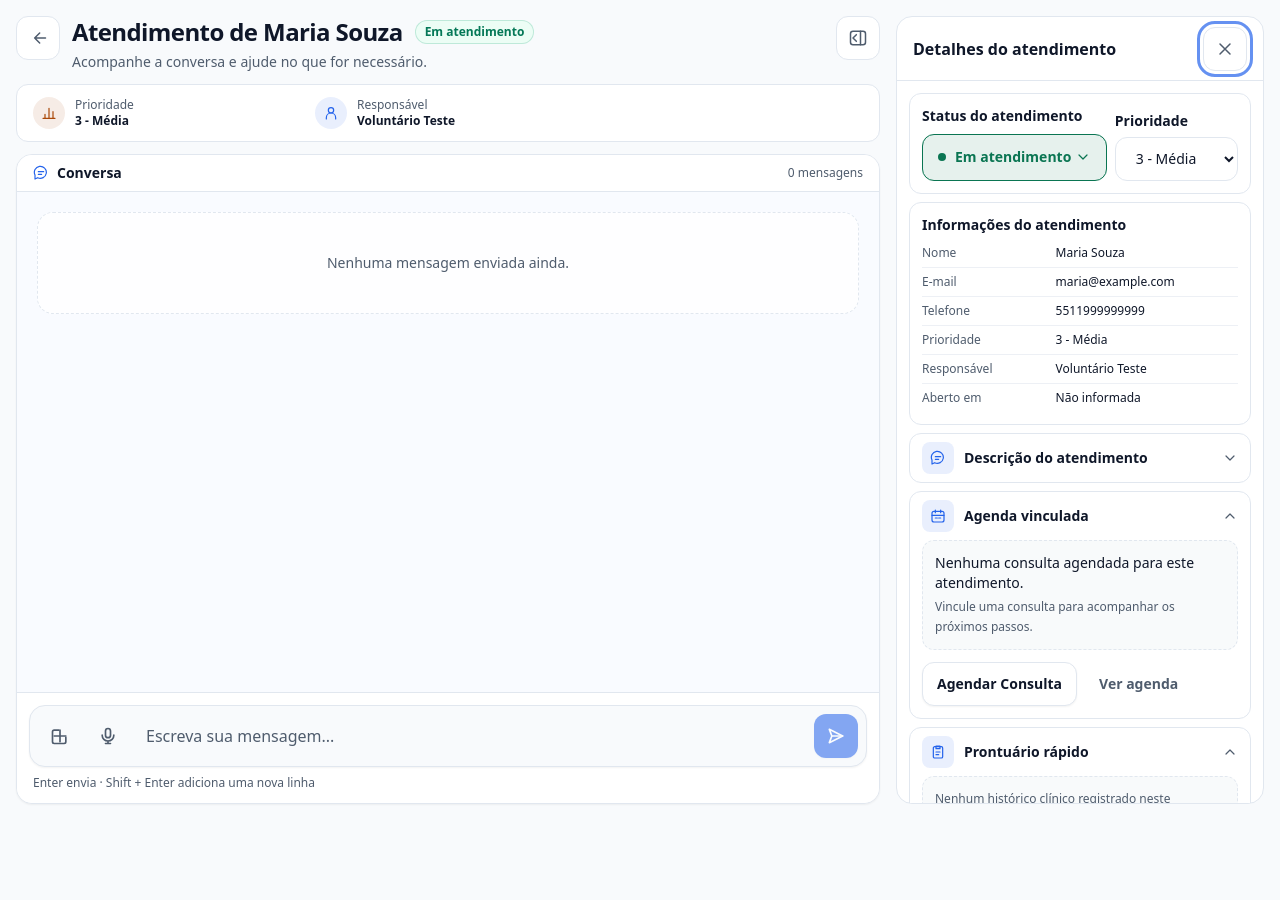
Test case: DetalheAtendimento - Deduplicação de Mensagens › permite agendar consulta vinculada diretamente pelo atendimento com validação de campos
Expected: the heading "Agenda vinculada" is shown, x1=964 y1=506 x2=1089 y2=525
Expected: the text "Nenhuma consulta agendada para este atendimento." is shown, x1=935 y1=553 x2=1225 y2=593
Click the button "Agendar Consulta": [1000, 684] box x1=922 y1=662 x2=1077 y2=706
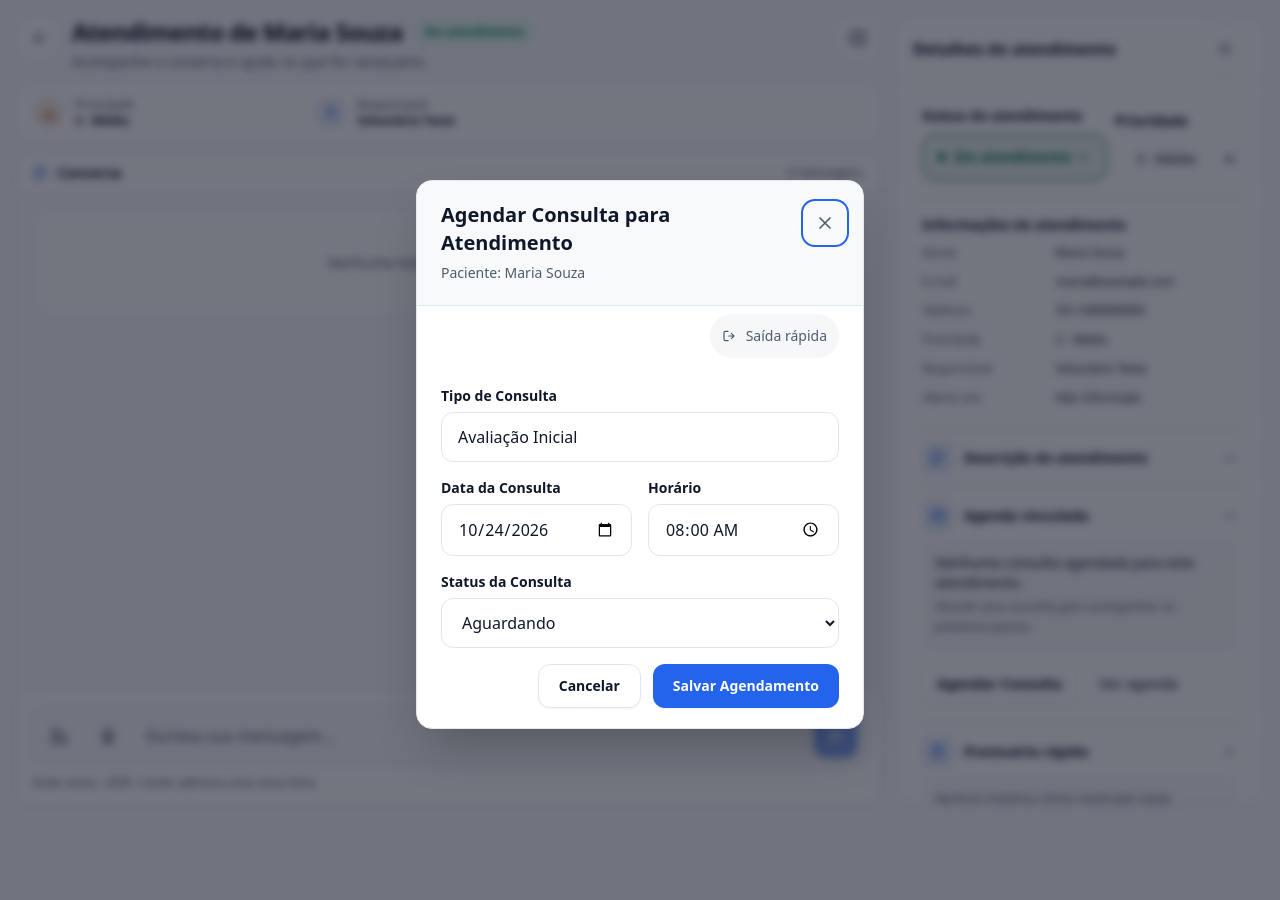
Clear the field with placeholder "Ex: Avaliação Inicial": [640, 436] box x1=441 y1=412 x2=839 y2=462
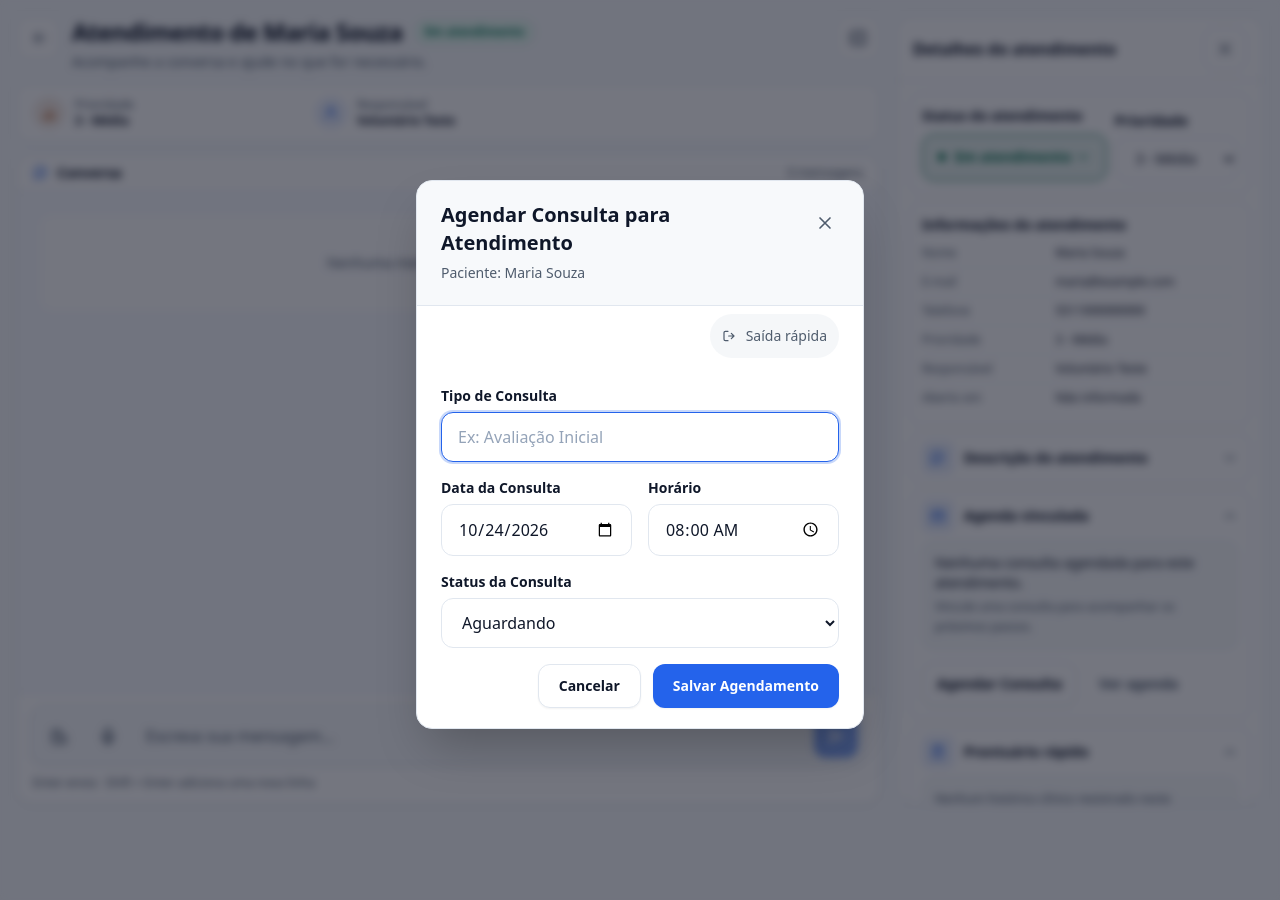
Click the button "Salvar Agendamento": [746, 686] box x1=653 y1=664 x2=839 y2=708
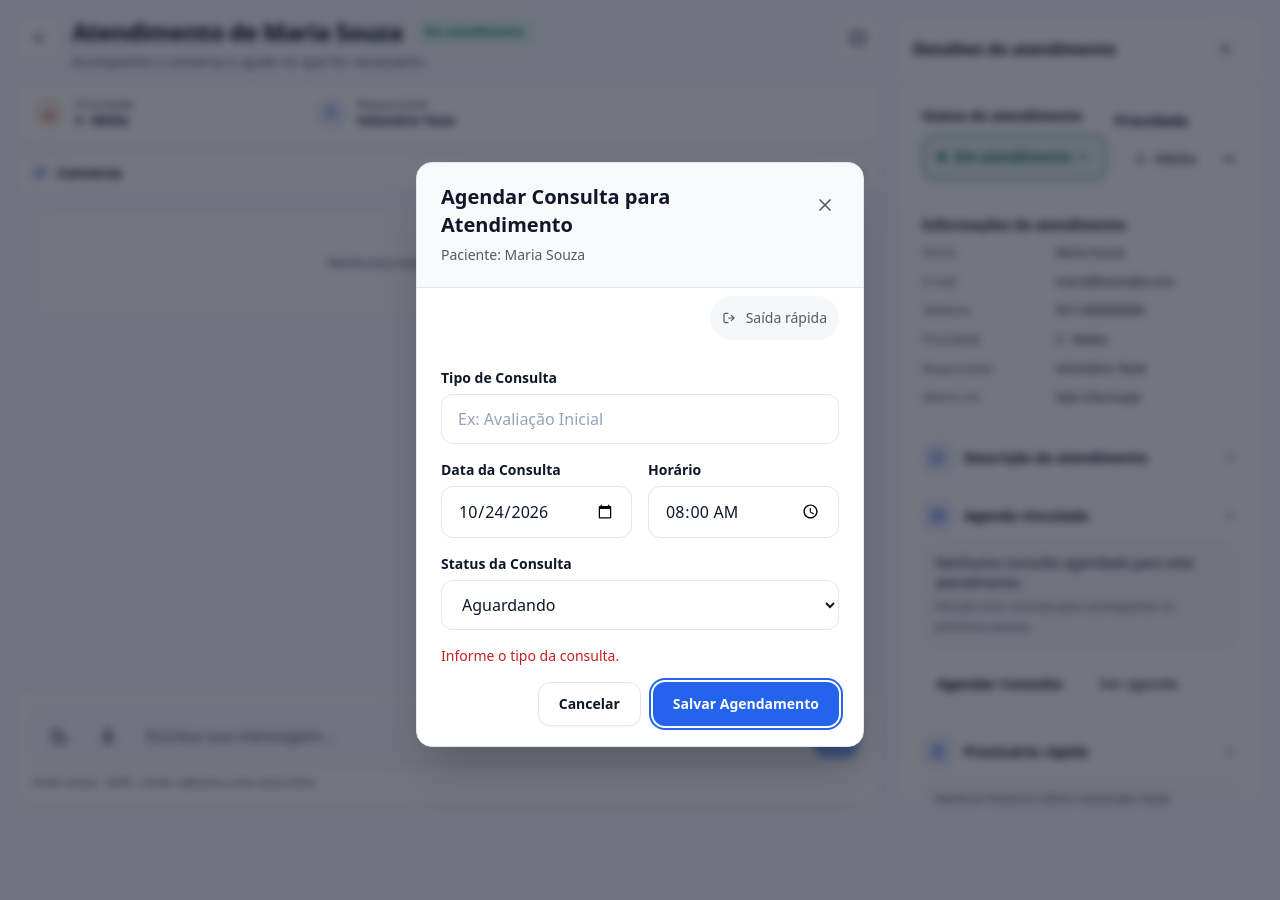
Now the message reads "Informe o tipo da consulta.", box x1=441 y1=646 x2=619 y2=664
In the field with placeholder "Ex: Avaliação Inicial": [640, 418] box x1=441 y1=394 x2=839 y2=444, type "Urgência Endodôntica"
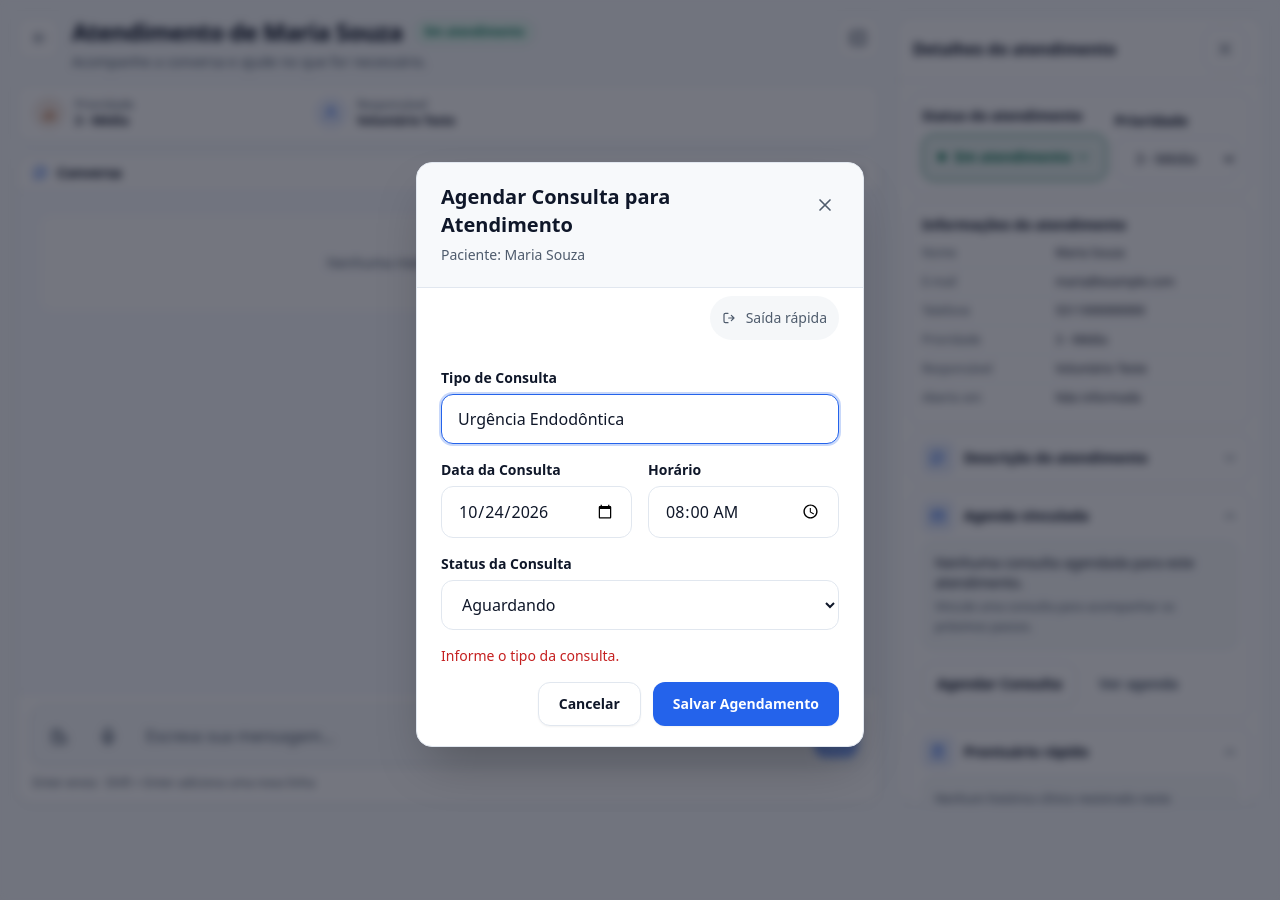
Click the button "Salvar Agendamento": [746, 704] box x1=653 y1=682 x2=839 y2=726
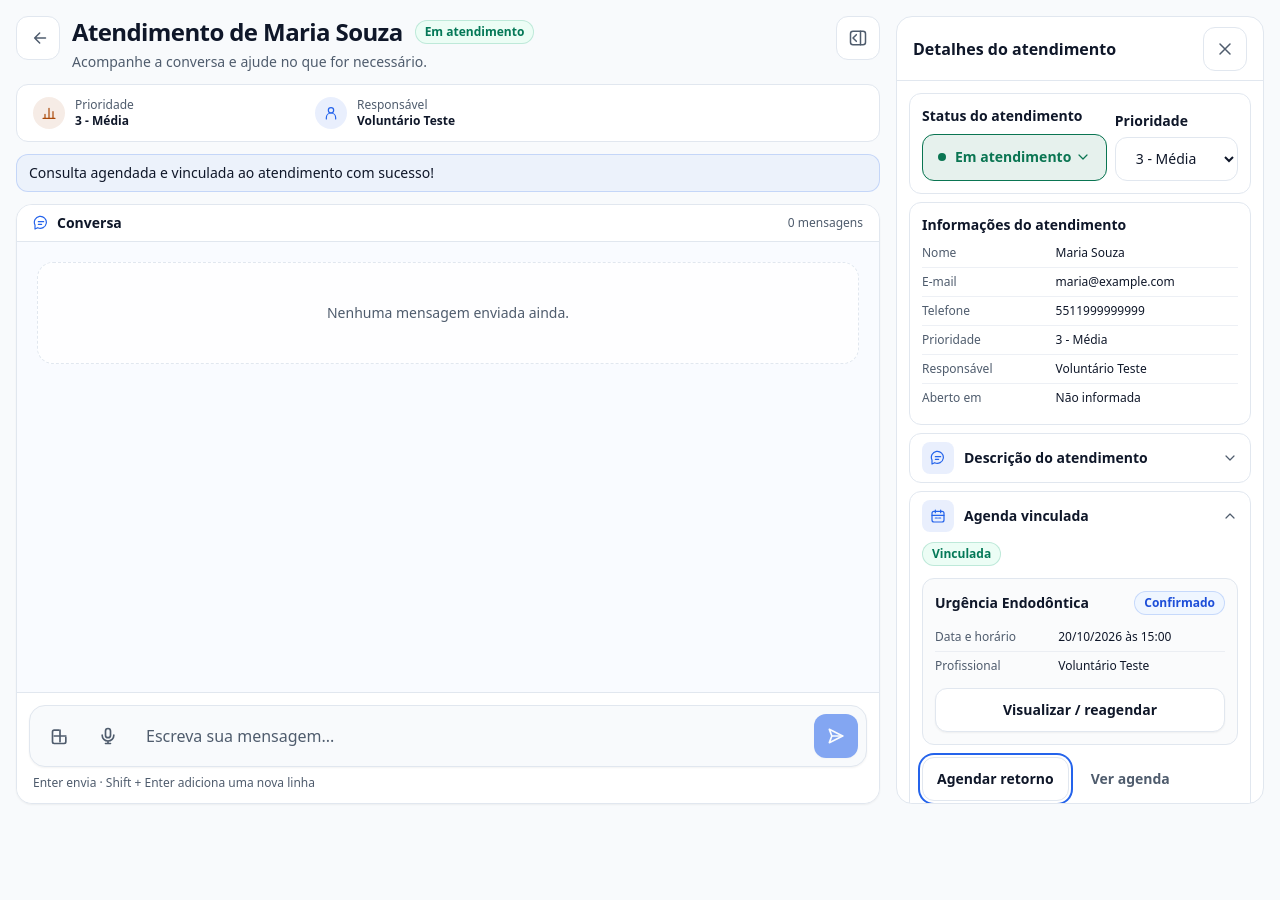
Now the heading "Urgência Endodôntica" is shown, box x1=935 y1=593 x2=1089 y2=613
Now the text "Vinculada" is shown, box x1=922 y1=542 x2=1001 y2=566
